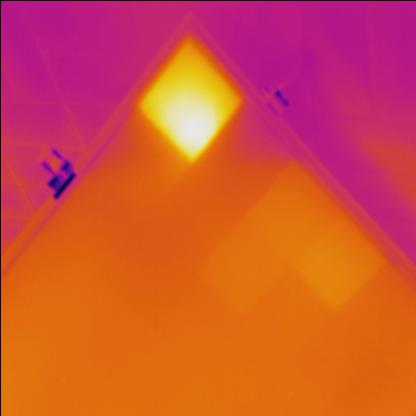hotspot: (130, 28, 248, 164)
